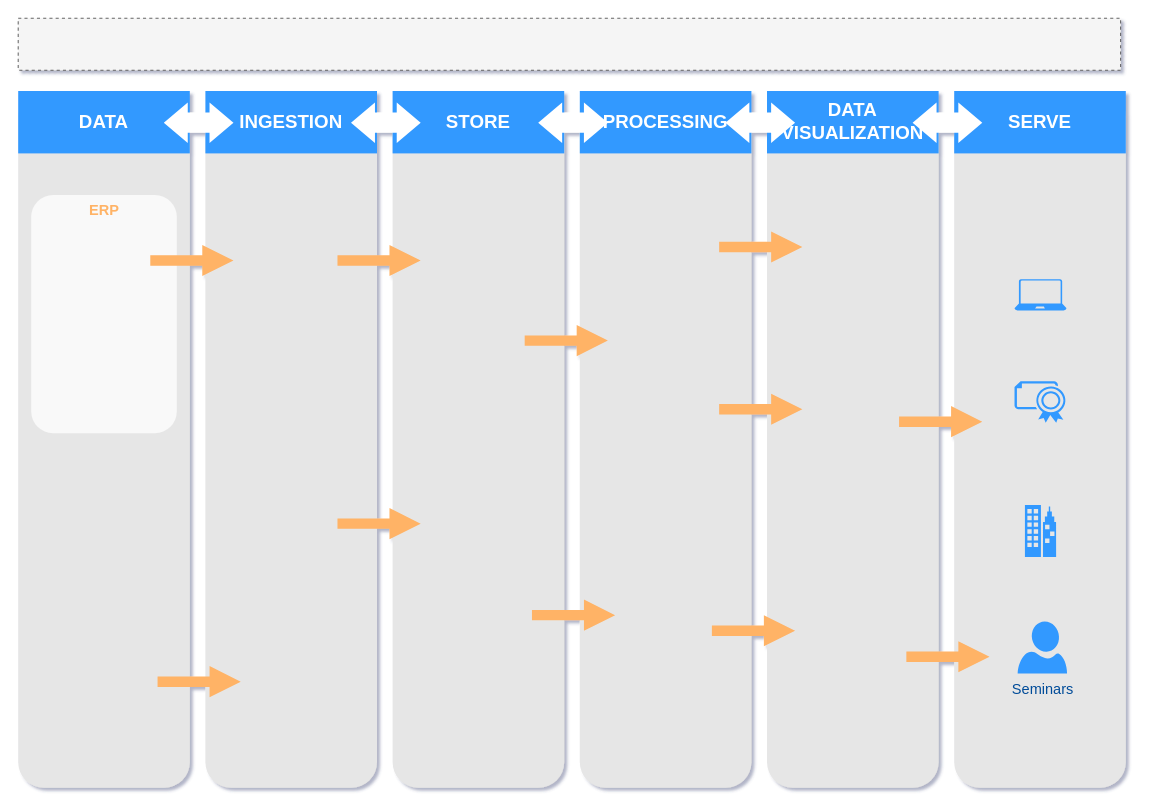
Some shapes in this 1150 by 812 pixel diagram are drawn without their labels. The centre of each missing label's shape, as x and y in pixels:
"Certificates" belongs at point (1040, 401).
"Enterprise Services" belongs at point (1040, 530).
"OVERVIEW ARCHITECTURE" belongs at point (569, 43).
"Web Dashboards" belongs at point (1040, 294).
